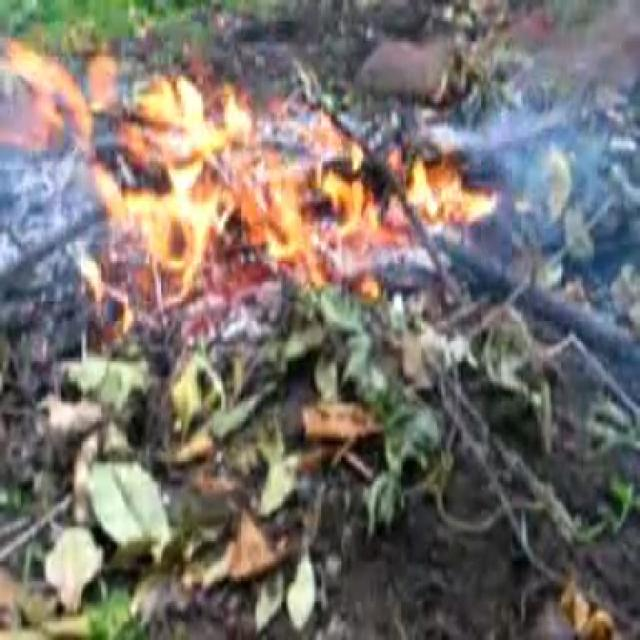Fire: (100, 94, 478, 281), (7, 42, 269, 154)
